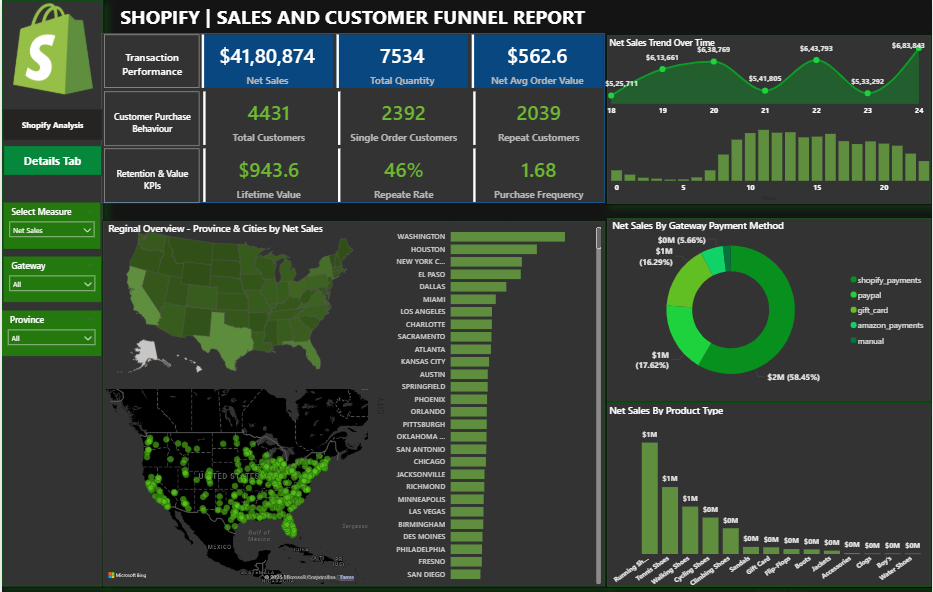

The dashboard page shown, as its layout file describes it:
{"tool":"powerbi","page":{"name":"Shopify Analysis","canvas":[1550,1000],"ordinal":0},"visuals":[{"type":"shape","box":[0,0,170.5,1001.9],"z":0},{"type":"textbox","box":[165.2,0,839.3,57.7],"z":1000},{"type":"shape","box":[165.2,55.1,839.3,283.2],"z":2000},{"type":"cardVisual","fields":{"Data":["shopify_sales.Net Sales","shopify_sales.Total Quantity","shopify_sales.Net Avg Order Value"]},"box":[327.8,57.7,679.3,94.4],"z":3000},{"type":"cardVisual","fields":{"Data":["shopify_sales.Transaction Performance"]},"box":[170.5,57.7,160,89.2],"z":4000},{"type":"cardVisual","fields":{"Data":["shopify_sales.Total Customers","shopify_sales.Single Order Customers","shopify_sales.Repeat Customers"]},"box":[330.5,152.1,679.3,94.4],"z":5000},{"type":"cardVisual","fields":{"Data":["shopify_sales.Customer Purchase Behaviour"]},"box":[170.5,152.1,160,91.8],"z":6000},{"type":"cardVisual","fields":{"Data":["shopify_sales.Lifetime Value","shopify_sales.Repeate Rate","shopify_sales.Purchase Frequency"]},"box":[330.5,246.5,679.3,94.4],"z":7000},{"type":"cardVisual","fields":{"Data":["shopify_sales.Retention & Value KPIs"]},"box":[170.5,246.5,160,91.8],"z":8000},{"type":"shape","box":[167.9,367.2,839.3,611.1],"z":9000},{"type":"slicer","fields":{"Values":["Select Measure.Select Measure"]},"box":[2.2,338,161.3,77.3],"z":10000},{"type":"map","fields":{"Category":["shopify_sales.Location"]},"box":[167.9,642.6,448.5,333.1],"z":11000},{"type":"clusteredBarChart","fields":{"Y":["shopify_sales.Net Sales"],"Category":["shopify_sales.CITY"]},"box":[616.3,364.6,385.5,613.7],"z":12000},{"type":"shapeMap","fields":{"Value":["shopify_sales.Net Sales"],"Category":["shopify_sales.Billing Address Province"]},"box":[164.4,363.1,446.5,279.7],"z":13000},{"type":"cardVisual","fields":{"Data":["shopify_sales.Map"]},"box":[165.2,348.8,430.1,57.7],"z":14000},{"type":"shape","box":[1007.1,57.7,542.9,283.2],"z":15000},{"type":"areaChart","fields":{"Y":["shopify_sales.Net Sales"],"Category":["shopify_sales.Invoice Date.Variation.Date Hierarchy.Day"]},"box":[999.2,57.7,542.9,144.2],"z":16000},{"type":"columnChart","fields":{"Y":["shopify_sales.Net Sales"],"Category":["shopify_sales.Hour"]},"box":[1009.7,181,540.3,160],"z":17000},{"type":"cardVisual","fields":{"Data":["shopify_sales.Trend Title"]},"box":[999.2,39.3,278,39.3],"z":18000},{"type":"shape","box":[1007.1,361.9,542.9,309.5],"z":19000},{"type":"donutChart","fields":{"Y":["shopify_sales.Net Sales"],"Category":["shopify_sales.Gateway"]},"box":[1009.7,361.9,540.3,306.9],"z":20000},{"type":"cardVisual","fields":{"Data":["shopify_sales.Gateway Title"]},"box":[1004.5,346.2,382.9,39.3],"z":21000},{"type":"shape","box":[1007.1,668.8,542.9,309.5],"z":22000},{"type":"columnChart","fields":{"Y":["shopify_sales.Net Sales"],"Category":["shopify_sales.Product Type"]},"box":[967.8,695,537.6,304.2],"z":23000},{"type":"cardVisual","fields":{"Data":["shopify_sales.Product Title"]},"box":[999.2,653,278,39.3],"z":24000},{"type":"image","box":[2.6,0,165.2,162.6],"z":25000},{"type":"slicer","fields":{"Values":["shopify_sales.Gateway"]},"box":[2.6,427.5,162.6,76.1],"z":26000},{"type":"slicer","fields":{"Values":["shopify_sales.Billing Address Province"]},"box":[0,516.7,165.2,76.1],"z":27000}]}

Visuals, with their boxes on the page's 1550x1000 design canvas (x1, y1, x2, y2). These are canvas units, not pixel positions in the 933x592 screenshot, which may show the page scaled, cropped or inside an application window:
shape: Rect(0, 0, 170, 1002)
textbox: Rect(165, 0, 1004, 58)
shape: Rect(165, 55, 1004, 338)
cardVisual - shopify_sales.Net Sales x shopify_sales.Total Quantity: Rect(328, 58, 1007, 152)
cardVisual - shopify_sales.Transaction Performance: Rect(170, 58, 330, 147)
cardVisual - shopify_sales.Total Customers x shopify_sales.Single Order Customers: Rect(330, 152, 1010, 246)
cardVisual - shopify_sales.Customer Purchase Behaviour: Rect(170, 152, 330, 244)
cardVisual - shopify_sales.Lifetime Value x shopify_sales.Repeate Rate: Rect(330, 246, 1010, 341)
cardVisual - shopify_sales.Retention & Value KPIs: Rect(170, 246, 330, 338)
shape: Rect(168, 367, 1007, 978)
slicer - Select Measure.Select Measure: Rect(2, 338, 164, 415)
map - shopify_sales.Location: Rect(168, 643, 616, 976)
clusteredBarChart - shopify_sales.Net Sales x shopify_sales.CITY: Rect(616, 365, 1002, 978)
shapeMap - shopify_sales.Net Sales x shopify_sales.Billing Address Province: Rect(164, 363, 611, 643)
cardVisual - shopify_sales.Map: Rect(165, 349, 595, 406)
shape: Rect(1007, 58, 1550, 341)
areaChart - shopify_sales.Net Sales x shopify_sales.Invoice Date.Variation.Date Hierarchy.Day: Rect(999, 58, 1542, 202)
columnChart - shopify_sales.Net Sales x shopify_sales.Hour: Rect(1010, 181, 1550, 341)
cardVisual - shopify_sales.Trend Title: Rect(999, 39, 1277, 79)
shape: Rect(1007, 362, 1550, 671)
donutChart - shopify_sales.Net Sales x shopify_sales.Gateway: Rect(1010, 362, 1550, 669)
cardVisual - shopify_sales.Gateway Title: Rect(1004, 346, 1387, 386)
shape: Rect(1007, 669, 1550, 978)
columnChart - shopify_sales.Net Sales x shopify_sales.Product Type: Rect(968, 695, 1505, 999)
cardVisual - shopify_sales.Product Title: Rect(999, 653, 1277, 692)
image: Rect(3, 0, 168, 163)
slicer - shopify_sales.Gateway: Rect(3, 428, 165, 504)
slicer - shopify_sales.Billing Address Province: Rect(0, 517, 165, 593)
